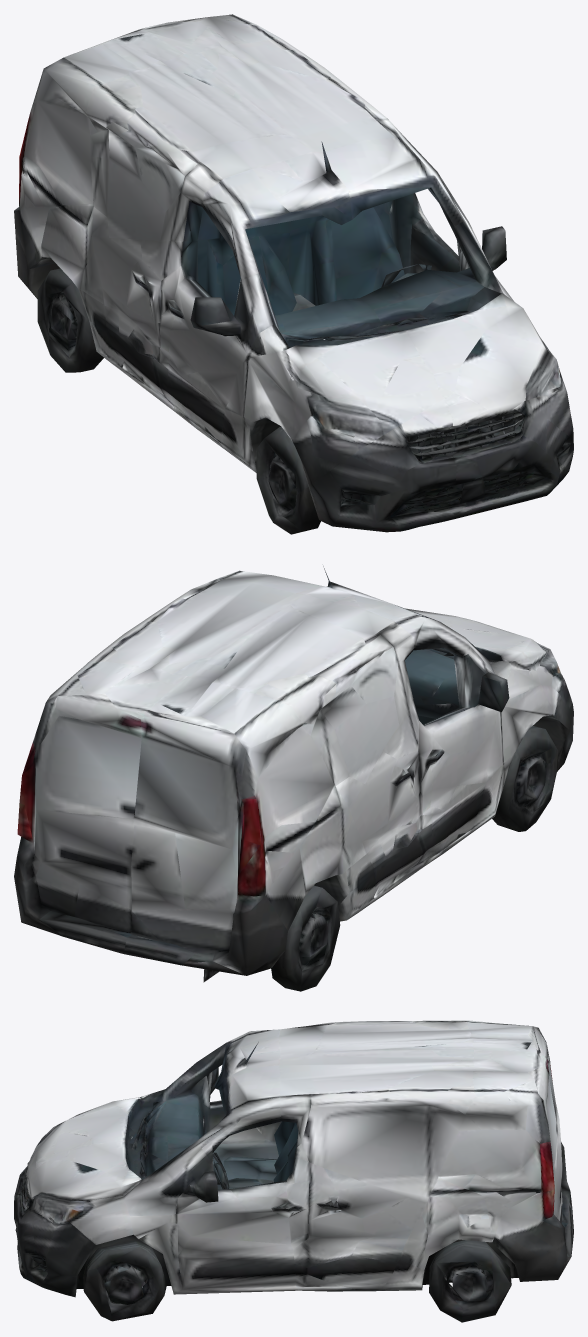
The model's file is traffic-van.glb.
3 renders of one model, top to bottom at view 1: azimuth 30°, elevation 25°; view 2: azimuth 150°, elevation 25°; view 3: azimuth 270°, elevation 25°, orthographic. The views are drawn at different scales.
Parts seen in each view (by area): view 1: tripo_node_11ba129b-fba0-429a-bfc3-a59d6a8023bd; view 2: tripo_node_11ba129b-fba0-429a-bfc3-a59d6a8023bd; view 3: tripo_node_11ba129b-fba0-429a-bfc3-a59d6a8023bd.
Boxes of the visible parts, box(x1,y1,x2,y2) form: tripo_node_11ba129b-fba0-429a-bfc3-a59d6a8023bd: box(14, 14, 573, 534); tripo_node_11ba129b-fba0-429a-bfc3-a59d6a8023bd: box(14, 566, 573, 991); tripo_node_11ba129b-fba0-429a-bfc3-a59d6a8023bd: box(14, 1020, 573, 1322).
Bounding box in the file's own units: 0.4949 × 0.4545 × 0.98.
Materials: 1 (1 with a texture image).
